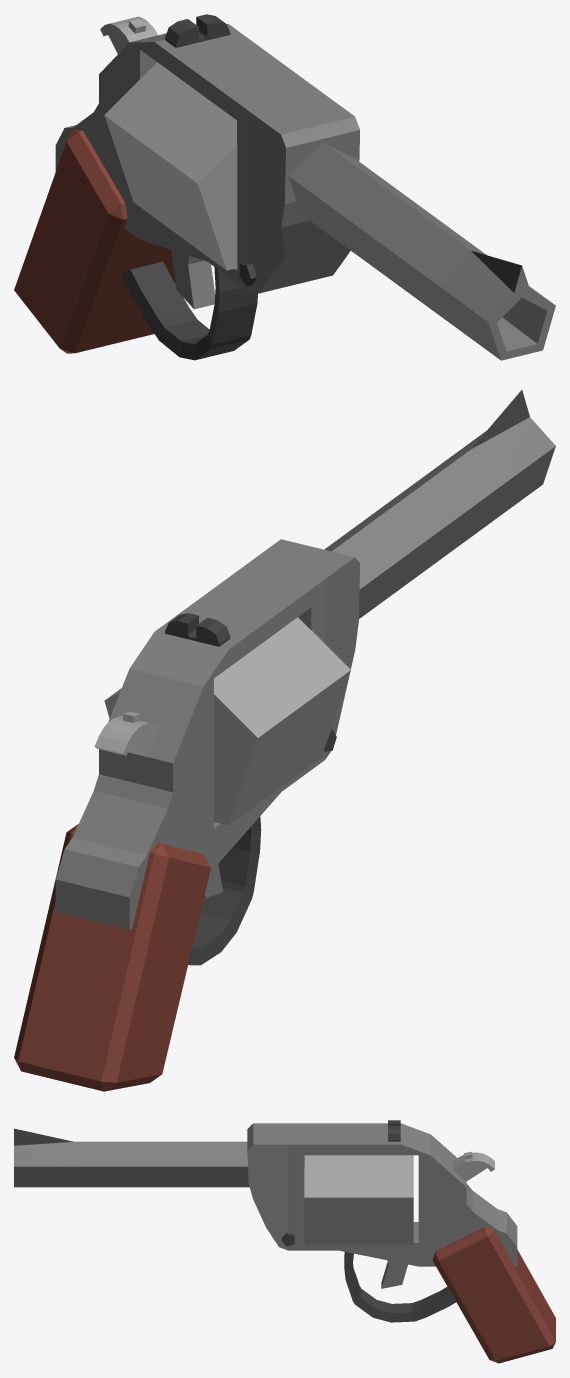
File: Revolver.fbx
3 views of the same model, one above another, from view 1: azimuth 30°, elevation 25°; view 2: azimuth 150°, elevation 25°; view 3: azimuth 270°, elevation 25° (orthographic). The views are drawn at different scales.
Parts seen in each view (by area): view 1: Cube.002, Cylinder; view 2: Cube.002, Cylinder; view 3: Cube.002, Cylinder.
Part boxes in pixels (x1,y1,x2,y2): Cube.002: (14, 14, 555, 360); Cylinder: (104, 62, 237, 270); Cube.002: (14, 389, 555, 1091); Cylinder: (104, 617, 350, 825); Cube.002: (14, 1120, 555, 1363); Cylinder: (304, 1155, 413, 1244).
Bounding box in the file's own units: 151 × 363 × 786.
